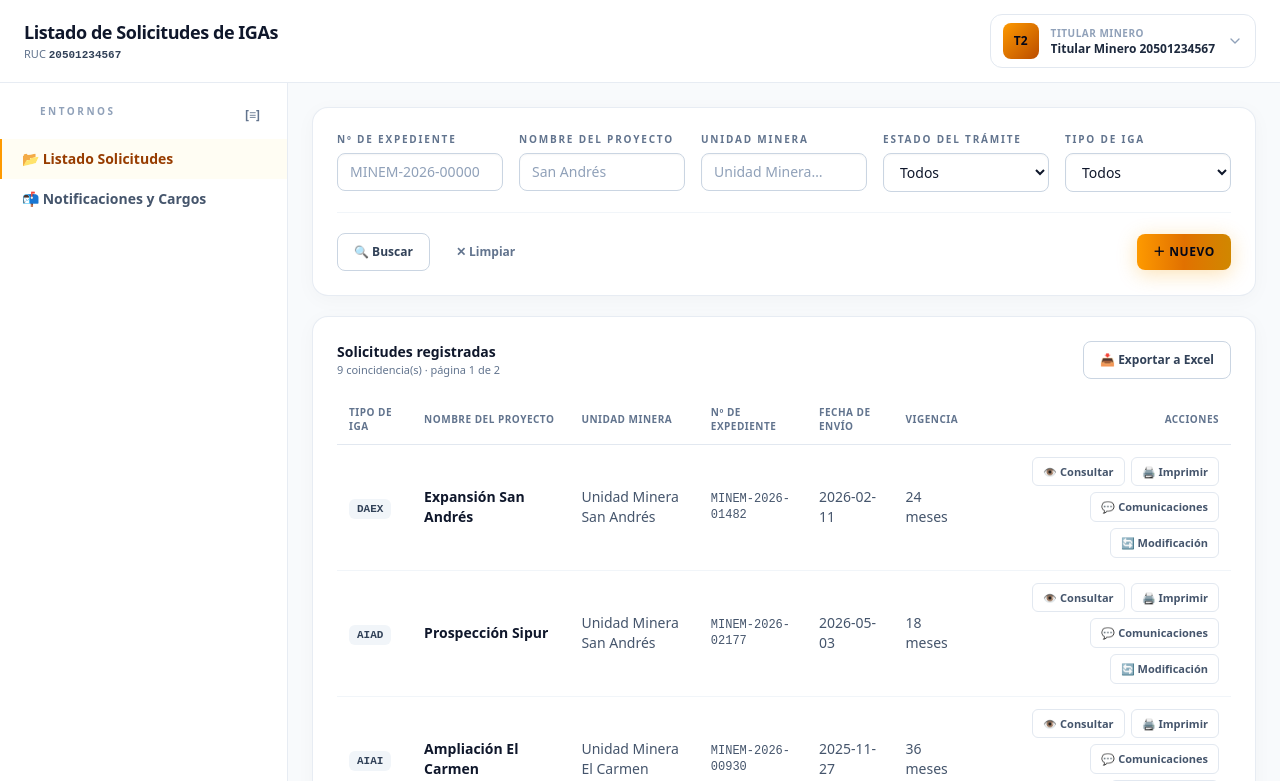
Scenario: WorkspaceComponent › Modal esmerilado de selección de IGA › se abre desde el botón Nuevo y muestra la ayuda normativa del DAEX
The width and height of the screenshot is (1280, 781).
Click the button with class "boton-oro" at (1184, 252), box [1137,234,1231,270]
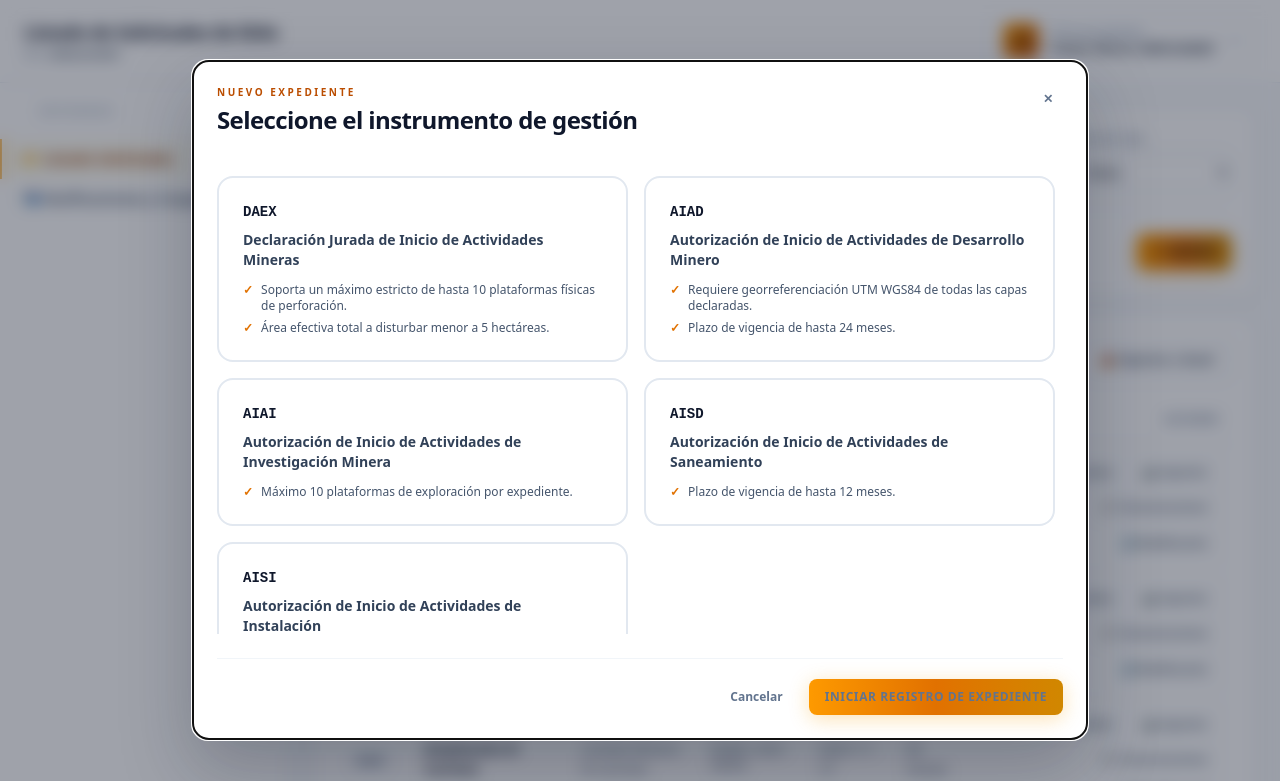
Result: the dialog shows "Soporta un máximo estricto de hasta 10 plataformas físicas de perforación." at [217,176,628,362]
